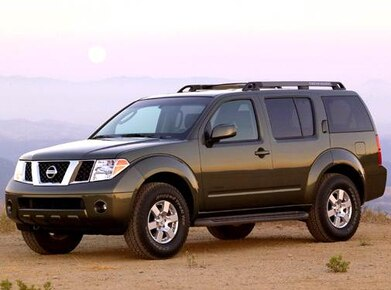car: (5, 82, 387, 260)
